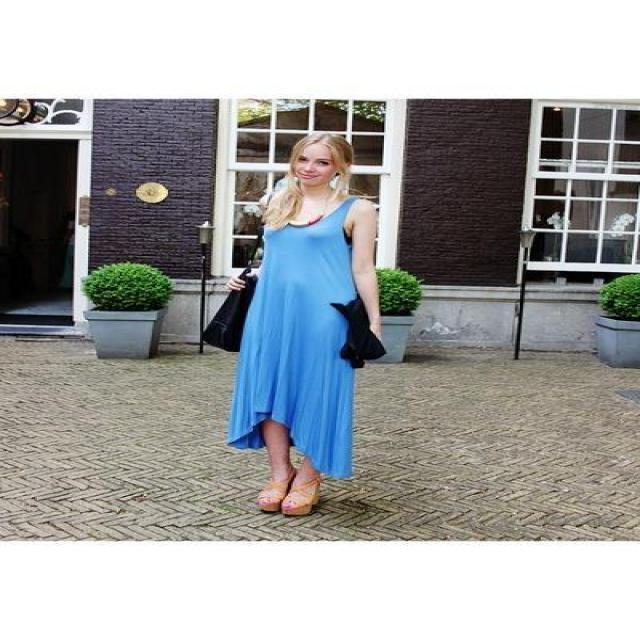bag: (192, 283, 402, 368)
dress: (225, 200, 354, 477)
shoe: (254, 497, 284, 518)
